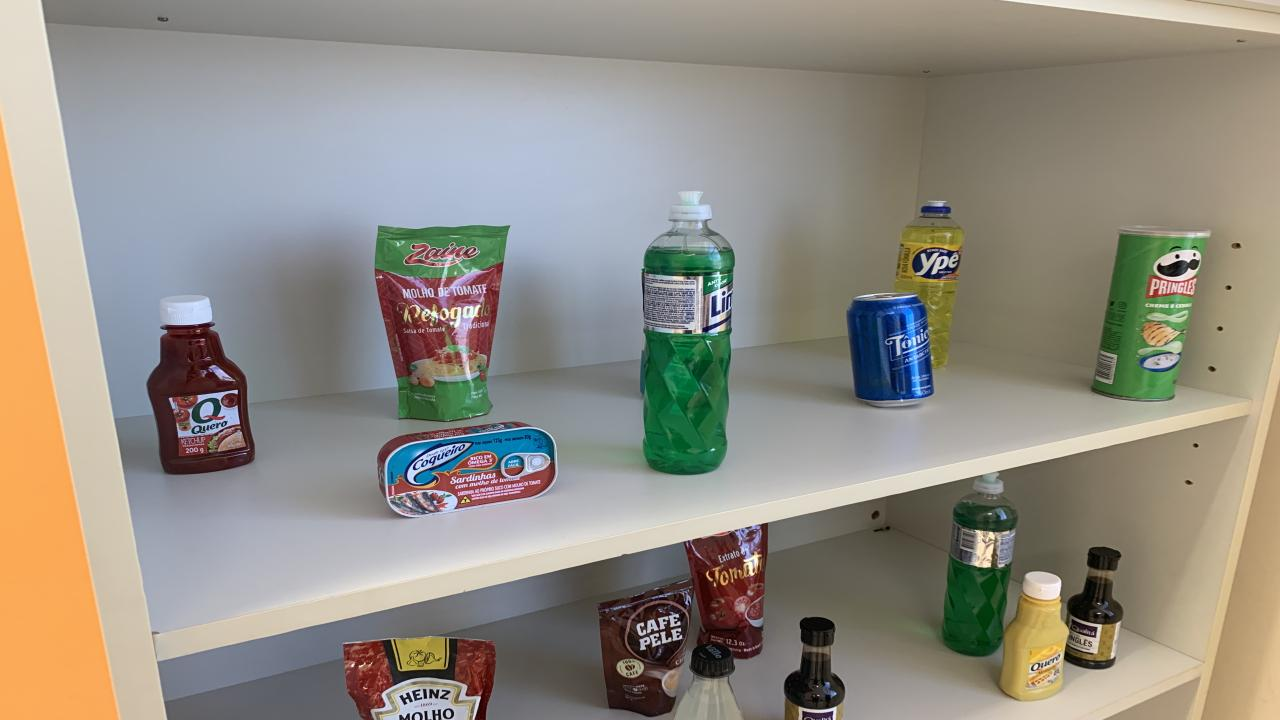Coffee-Pantry_Items: (598, 579, 692, 716)
Detergent-Cleanup_Items: (642, 219, 735, 474), (942, 491, 1018, 656), (895, 201, 965, 368)
English_Sauce-Pantry_Items: (1065, 548, 1122, 669), (785, 617, 845, 720)
Ketchup-Pantry_Items: (148, 294, 255, 474)
Mustard-Pantry_Items: (1000, 572, 1070, 701)
Pringles-Snacks: (1090, 227, 1210, 401)
Soda-Drinks: (848, 292, 932, 407), (675, 643, 742, 720)
Tomato_Sauce-Pantry_Items: (375, 225, 510, 420), (342, 638, 495, 720), (685, 525, 768, 658)
Tonic-Drinks: (848, 292, 932, 407)
Tuna_Can-Pantry_Items: (378, 422, 558, 518)
